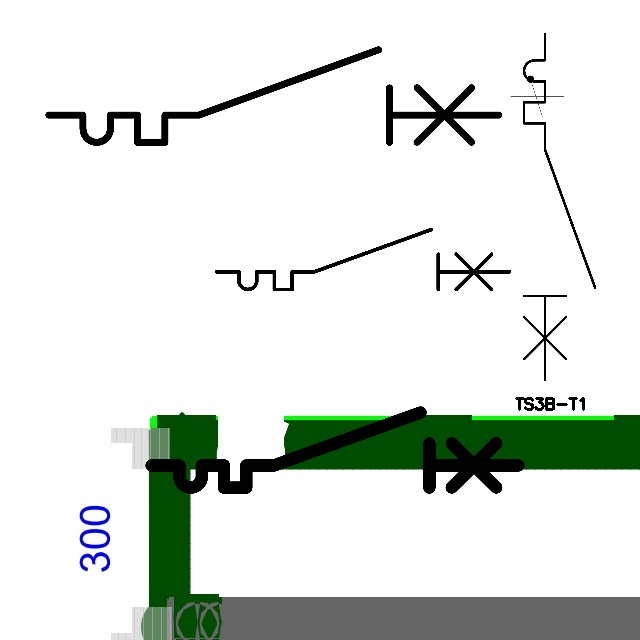interruptor_termomagnetico: (37, 38, 511, 154), (142, 403, 527, 497), (515, 25, 604, 388), (209, 222, 517, 297)
